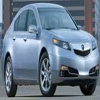Car: (3, 1, 100, 94)
